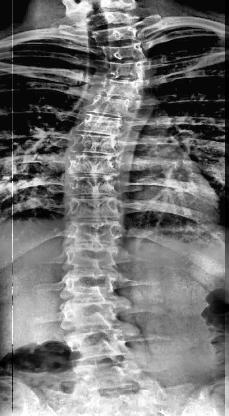Vertebrae: (66, 326, 136, 362), (60, 251, 128, 280), (63, 302, 128, 330), (68, 154, 134, 180), (63, 282, 124, 310), (66, 221, 128, 247), (64, 193, 130, 217), (72, 110, 128, 138), (68, 134, 128, 158), (65, 177, 127, 196), (95, 22, 139, 46), (82, 96, 132, 116), (99, 76, 143, 96), (104, 63, 154, 79), (88, 8, 132, 26), (103, 44, 148, 60)
